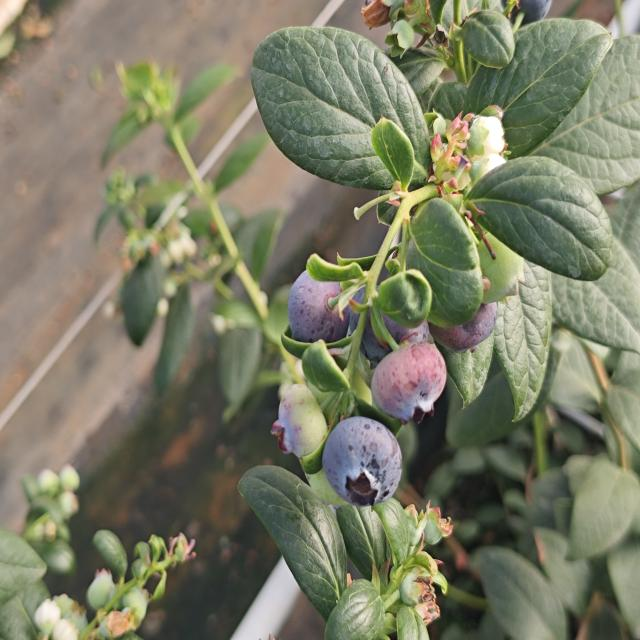ripe: (320, 414, 404, 511), (356, 288, 437, 362), (284, 267, 354, 348), (437, 288, 505, 352), (488, 0, 556, 32)
